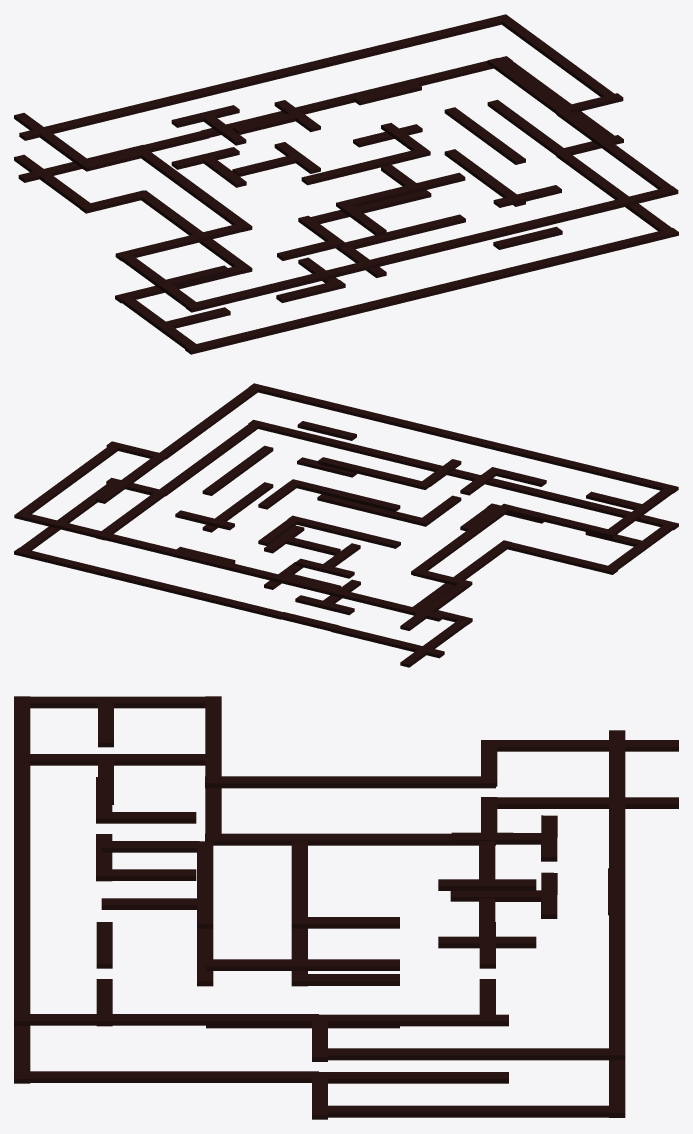
File: level2B.obj
3 views of the same model, one above another, from view 1: azimuth 30°, elevation 25°; view 2: azimuth 150°, elevation 25°; view 3: azimuth 270°, elevation 25° (orthographic). The views are drawn at different scales.
Visible parts, largest first — view 1: Cube.027_Cube.039, Cube.026_Cube.038, Cube.029_Cube.041, Cube.047_Cube.059, Cube.002_Cube.012, Cube.070_Cube.088, Cube.067_Cube.087, Cube.072_Cube.090, Cube.078_Cube.096, Cube.082_Cube.100, Cube.089_Cube.107, Cube.125_Cube.158 (+56 smaller); view 2: Cube.005_Cube.015, Cube.026_Cube.038, Cube.029_Cube.041, Cube.057_Cube.072, Cube.002_Cube.012, Cube.008_Cube.020, Cube.146_Cube.179, Cube.131_Cube.164, Cube.058_Cube.073, Cube.122_Cube.155, Cube.127_Cube.160, Cube.072_Cube.090 (+36 smaller); view 3: Cube.036_Cube.048, Cube.153_Cube.186, Cube.038_Cube.050, Cube.108_Cube.129, Cube.107_Cube.128, Cube.111_Cube.141, Cube.044_Cube.056, Cube.037_Cube.049, Cube.106_Cube.127, Cube.112_Cube.142, Cube.068_Cube.083, Cube.105_Cube.126 (+68 smaller).
Boxes of the visible parts, x1,y1,x2,y2 form: Cube.027_Cube.039: (493,226,562,249); Cube.026_Cube.038: (493,185,561,207); Cube.029_Cube.041: (353,82,421,105); Cube.047_Cube.059: (277,238,344,260); Cube.002_Cube.012: (301,162,368,185); Cube.070_Cube.088: (185,331,254,354); Cube.067_Cube.087: (185,290,253,312); Cube.072_Cube.090: (247,316,315,339); Cube.078_Cube.096: (369,287,436,309); Cube.082_Cube.100: (431,272,496,295); Cube.089_Cube.107: (610,186,678,208); Cube.125_Cube.158: (141,130,209,152); Cube.005_Cube.015: (341,528,400,548); Cube.026_Cube.038: (297,421,356,440); Cube.029_Cube.041: (175,510,234,530); Cube.057_Cube.072: (558,518,617,538); Cube.002_Cube.012: (341,492,400,511); Cube.008_Cube.020: (371,470,429,489); Cube.146_Cube.179: (295,558,354,578); Cube.131_Cube.164: (119,573,179,593); Cube.058_Cube.073: (558,554,617,574); Cube.122_Cube.155: (331,588,390,608); Cube.127_Cube.160: (225,599,283,619); Cube.072_Cube.090: (565,497,622,517); Cube.036_Cube.048: (302,776,399,788); Cube.153_Cube.186: (411,1014,508,1026); Cube.038_Cube.050: (205,776,302,788); Cube.108_Cube.129: (419,1105,517,1117); Cube.107_Cube.128: (419,1048,517,1060); Cube.111_Cube.141: (514,1048,612,1060); Cube.044_Cube.056: (398,776,495,788); Cube.037_Cube.049: (302,833,399,845); Cube.106_Cube.127: (323,1105,421,1117); Cube.112_Cube.142: (514,1105,612,1117); Cube.068_Cube.083: (112,696,210,708); Cube.105_Cube.126: (323,1048,421,1060).
Bounding box in the file's own units: 16.83 × 1.35 × 13.07.
